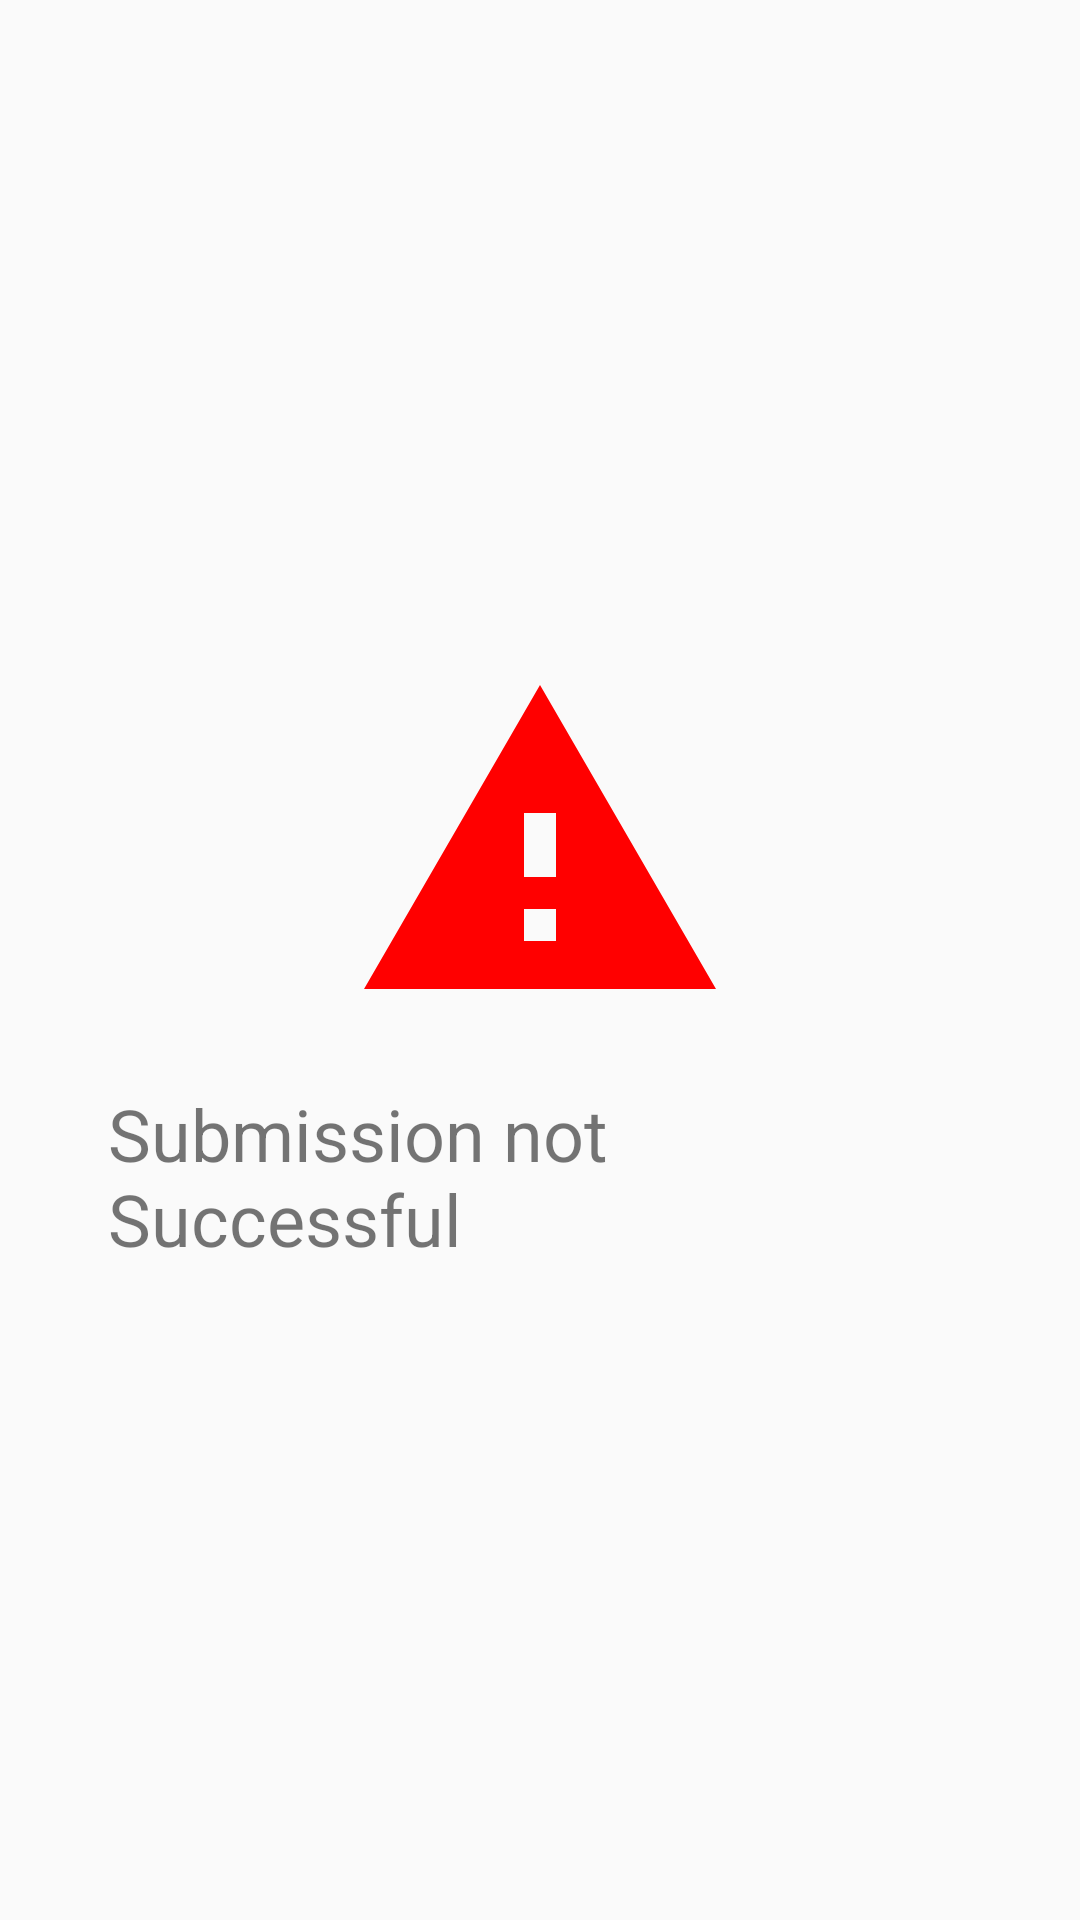

Named icons in this screenshot (1080px x 1920px) and their bounding boxes, (x1, y1, x2, y2):
error: (364, 685, 716, 989)
